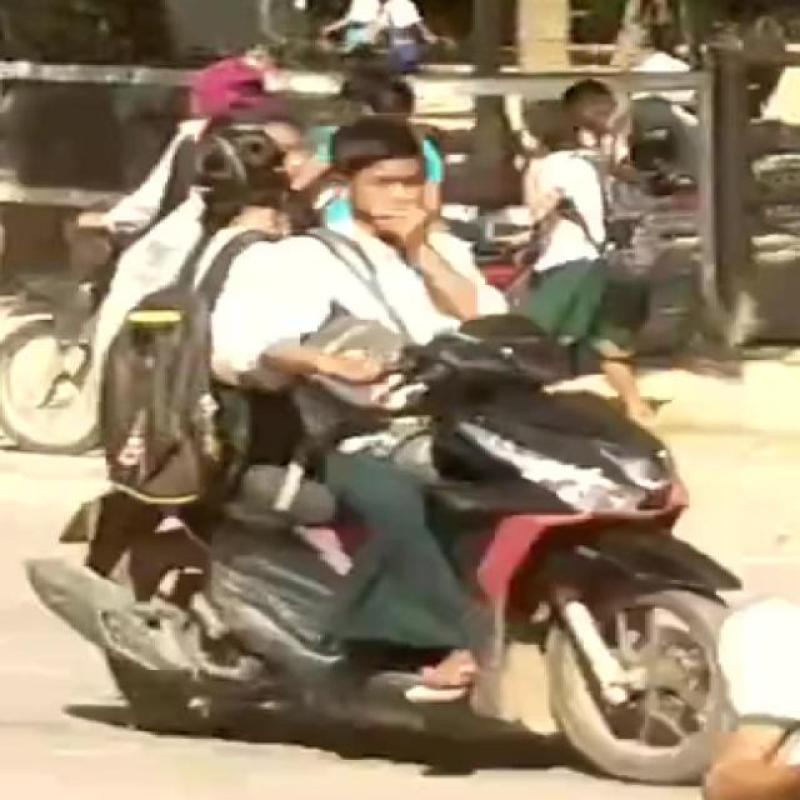nohelmet: (314, 107, 494, 241)
